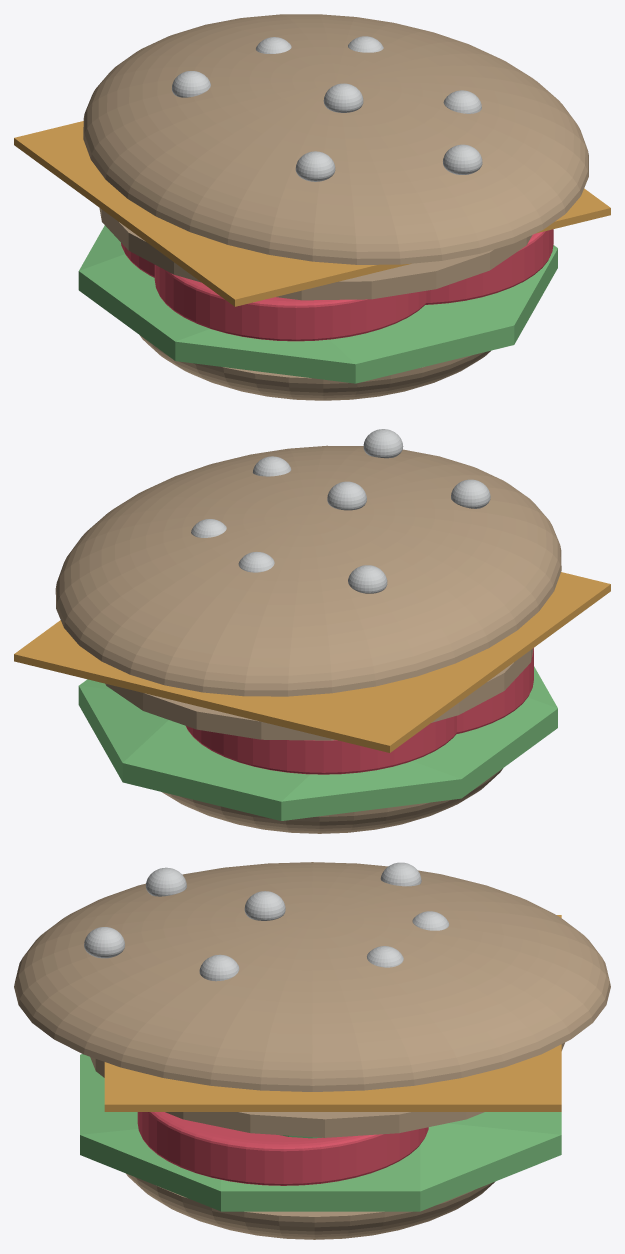
Rendered from burger.gltf.
The picture shows the model from 3 angles, top to bottom: view 1: azimuth 30°, elevation 25°; view 2: azimuth 150°, elevation 25°; view 3: azimuth 270°, elevation 25°; orthographic projection. The views are drawn at different scales.
Parts seen in each view (by area): view 1: Mesh_Mesh_head_geo.001_lambert2SG.001; view 2: Mesh_Mesh_head_geo.001_lambert2SG.001; view 3: Mesh_Mesh_head_geo.001_lambert2SG.001.
Boxes of the visible parts, x1,y1,x2,y2 form: Mesh_Mesh_head_geo.001_lambert2SG.001: (14,14,610,400); Mesh_Mesh_head_geo.001_lambert2SG.001: (14,429,610,833); Mesh_Mesh_head_geo.001_lambert2SG.001: (14,862,610,1239).
Bounding box in the file's own units: 121 × 81 × 145.
